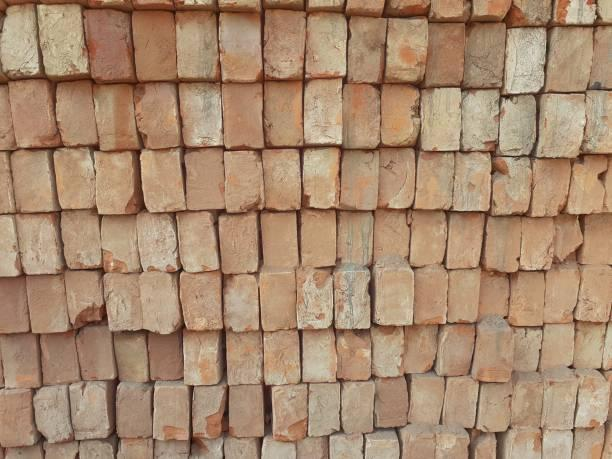brick: (37, 4, 87, 76), (9, 79, 59, 148), (84, 9, 131, 80), (134, 82, 180, 150), (132, 11, 177, 80), (219, 13, 263, 83), (263, 9, 306, 80), (538, 94, 586, 157), (95, 84, 140, 150), (547, 27, 593, 91), (140, 149, 186, 212), (176, 11, 219, 78), (222, 83, 265, 149), (462, 24, 506, 88), (180, 82, 223, 146), (506, 27, 547, 94), (384, 18, 428, 80), (56, 80, 97, 146), (1, 4, 39, 74), (11, 150, 53, 213), (94, 151, 136, 214), (17, 214, 61, 274), (306, 13, 347, 77), (54, 148, 96, 209), (264, 81, 303, 146), (348, 17, 387, 82), (180, 272, 223, 330), (381, 84, 421, 146), (421, 88, 461, 150), (224, 151, 264, 213), (305, 79, 343, 144), (177, 212, 218, 272), (139, 272, 179, 333), (343, 84, 381, 148), (185, 148, 224, 210), (425, 23, 464, 85), (137, 213, 178, 271), (219, 214, 258, 274), (567, 156, 607, 214), (64, 271, 104, 329), (498, 95, 536, 155), (377, 148, 415, 208), (262, 149, 300, 209), (27, 276, 67, 333), (492, 157, 531, 215), (531, 158, 570, 216), (61, 210, 100, 268), (462, 89, 498, 151), (414, 152, 453, 209), (453, 153, 491, 211), (102, 215, 140, 273), (104, 273, 142, 331), (34, 387, 73, 443), (334, 271, 371, 330), (260, 272, 297, 331), (377, 268, 415, 325), (303, 148, 339, 208), (410, 211, 448, 267), (296, 270, 332, 328), (342, 150, 377, 209), (2, 334, 40, 388), (69, 385, 107, 439), (152, 386, 190, 440), (447, 214, 484, 269), (77, 327, 116, 379), (486, 216, 522, 272), (337, 212, 374, 266), (224, 274, 259, 331), (41, 333, 80, 384), (262, 213, 298, 268), (373, 209, 410, 262), (543, 270, 580, 323), (301, 210, 336, 266), (477, 328, 513, 382), (264, 330, 300, 384), (414, 266, 448, 323), (581, 91, 612, 153), (226, 332, 262, 384), (0, 392, 34, 447), (577, 268, 612, 321), (184, 331, 219, 384), (273, 384, 306, 440), (303, 328, 337, 382), (511, 272, 544, 327), (229, 386, 264, 437), (117, 387, 152, 438), (521, 218, 555, 270), (192, 386, 226, 438), (439, 325, 474, 375), (575, 377, 609, 428), (308, 383, 340, 437), (114, 333, 149, 382), (448, 269, 480, 322), (375, 377, 408, 428), (443, 380, 478, 428), (372, 327, 405, 377), (338, 329, 371, 379), (409, 377, 444, 424), (342, 382, 374, 432), (405, 326, 439, 373), (544, 380, 577, 428), (148, 334, 182, 380), (0, 277, 28, 332), (478, 384, 510, 432), (540, 324, 574, 369), (581, 215, 612, 263), (588, 26, 612, 88), (573, 322, 605, 368), (480, 271, 510, 318), (511, 381, 541, 427), (553, 214, 582, 261), (513, 329, 542, 371), (1, 215, 20, 276)
